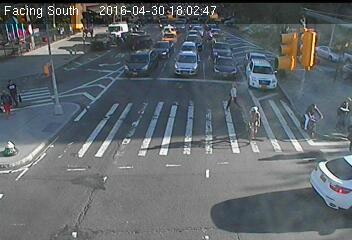neg: (235, 100, 267, 143), (297, 98, 329, 140)
pos: (220, 78, 246, 112), (331, 94, 351, 135), (1, 76, 22, 105), (331, 65, 345, 85), (62, 44, 76, 63), (78, 24, 92, 42), (57, 20, 70, 37)
